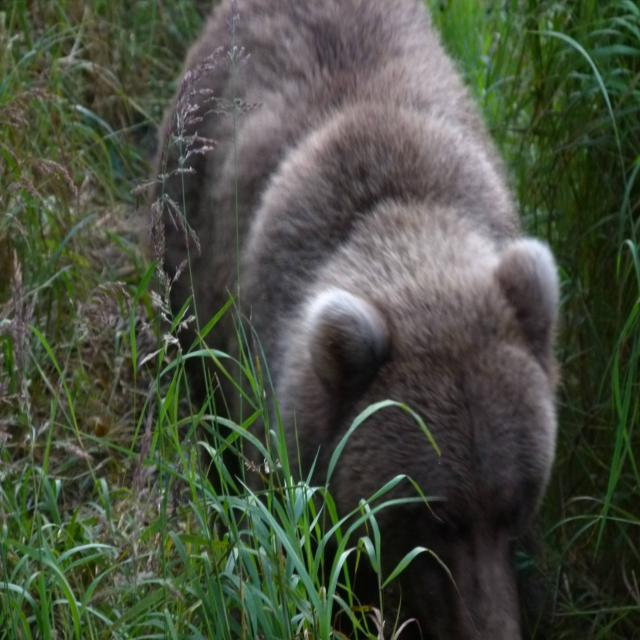bear face: (151, 0, 563, 640)
